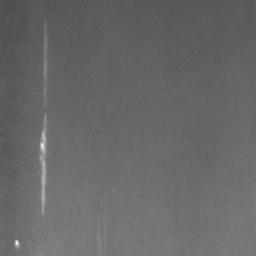Bright scratch: (40, 116, 47, 212), (45, 23, 49, 106)
